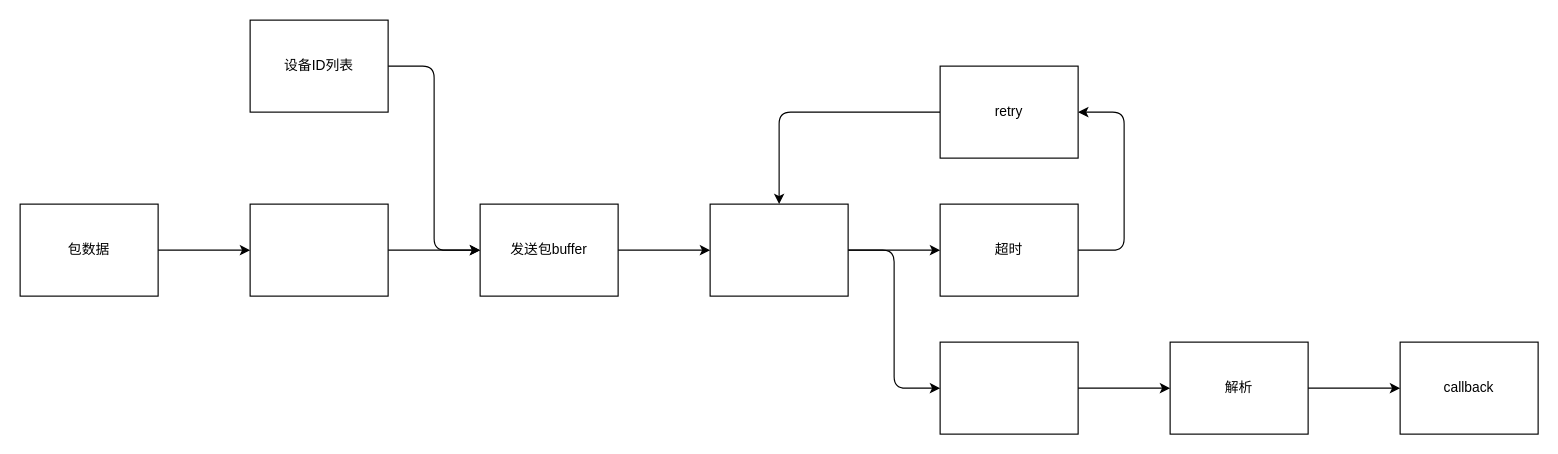
Some shapes in this 1558 by 454 pixel diagram are drawn without their labels. Each missing label, with the centre of its shape:
"包buffer" belongs at (x=318, y=249).
"返回" belongs at (x=1008, y=387).
"队列发送" belongs at (x=778, y=249).
